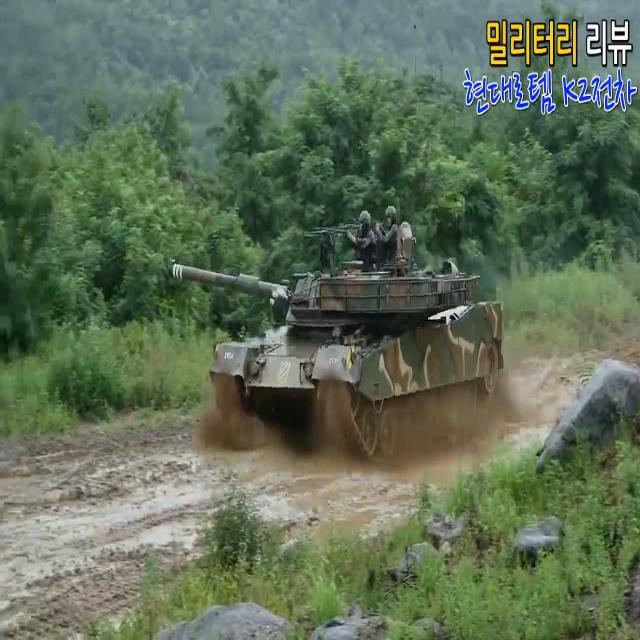korea tank: (167, 198, 503, 462)
